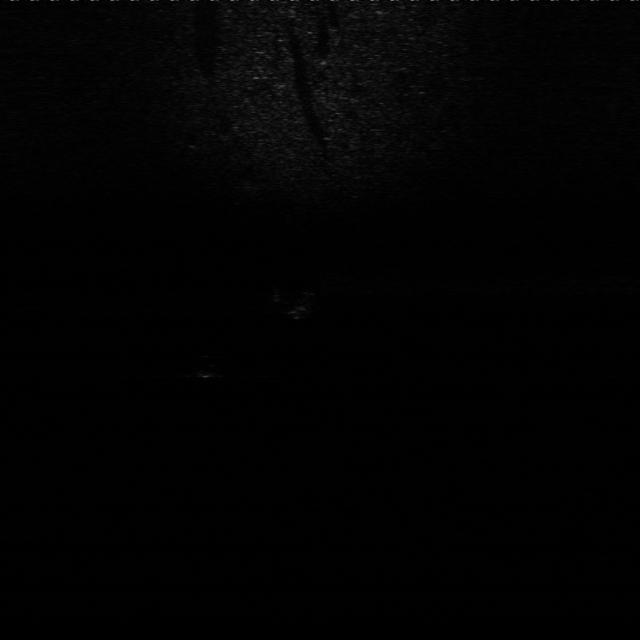ball: (190, 354, 222, 379)
human body: (267, 290, 323, 321)
